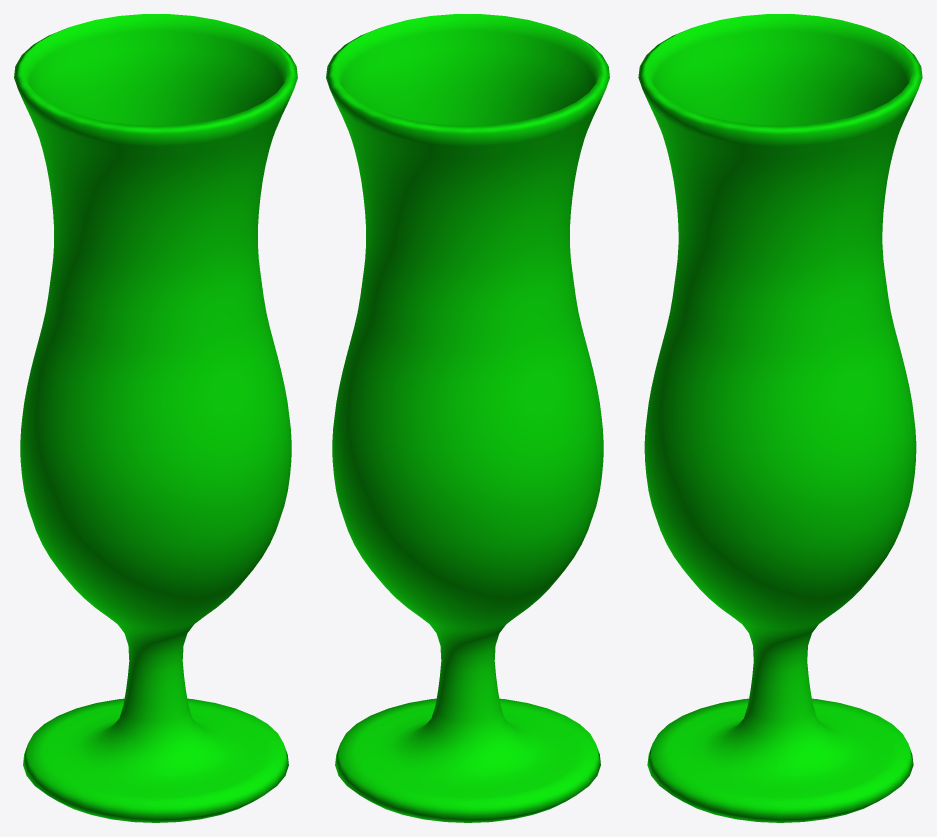
File: Glass3_LOD_0.fbx
3 renders of one model, left to right at view 1: azimuth 30°, elevation 25°; view 2: azimuth 150°, elevation 25°; view 3: azimuth 270°, elevation 25°, orthographic.
Visible parts, largest first — view 1: Glass3_LOD_0; view 2: Glass3_LOD_0; view 3: Glass3_LOD_0.
Part boxes in pixels (x1,y1,x2,y2): Glass3_LOD_0: (14,14,297,822); Glass3_LOD_0: (326,14,609,822); Glass3_LOD_0: (638,14,922,822).
Size of the model in its own units: 1.02 by 2.83 by 1.02.
